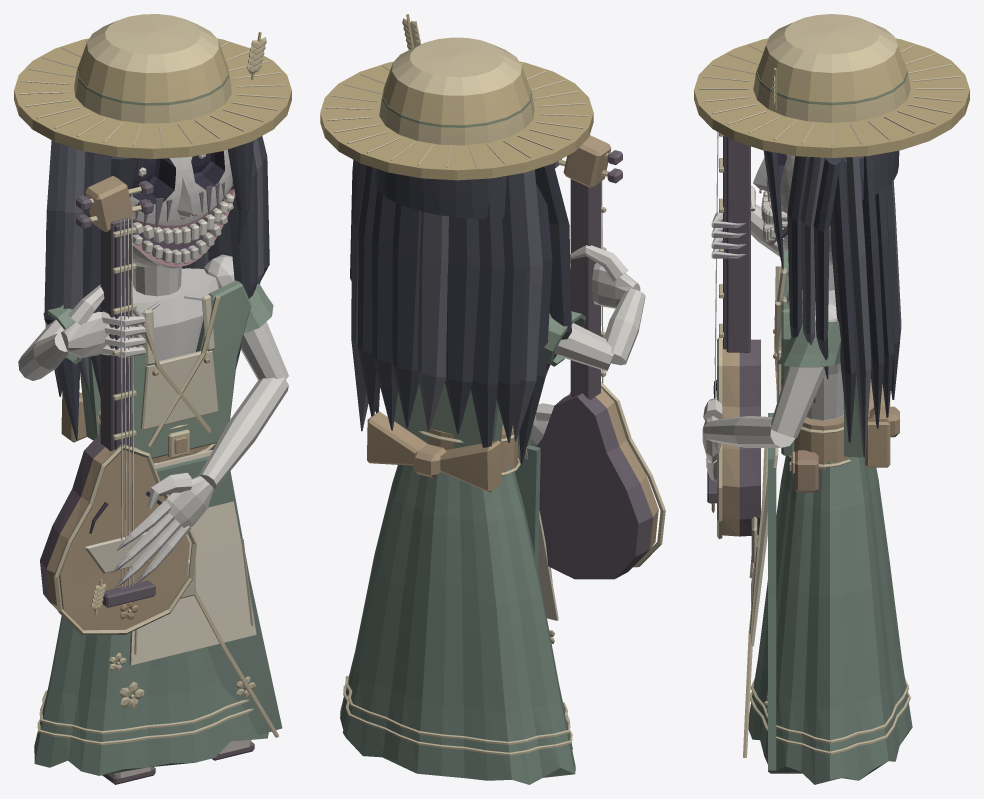
Rendered from MimicFarmer.glb.
3 renders of one model, left to right at view 1: azimuth 30°, elevation 25°; view 2: azimuth 150°, elevation 25°; view 3: azimuth 270°, elevation 25°, orthographic.
Visible parts, largest first — view 1: Body, Head, ArmL, ArmR, LegR; view 2: Body, Head, ArmR, ArmL; view 3: Body, Head, ArmL, ArmR.
Boxes of the visible parts, bbox=[...] form: Body: bbox=[34, 176, 282, 775]; Head: bbox=[14, 14, 291, 440]; ArmL: bbox=[110, 254, 288, 588]; ArmR: bbox=[18, 284, 145, 380]; LegR: bbox=[102, 767, 155, 784]; Body: bbox=[340, 135, 665, 784]; Head: bbox=[320, 14, 593, 464]; ArmR: bbox=[544, 245, 645, 371]; ArmL: bbox=[530, 403, 554, 446]; Body: bbox=[707, 132, 912, 784]; Head: bbox=[694, 14, 969, 457]; ArmL: bbox=[702, 300, 840, 482]; ArmR: bbox=[711, 186, 779, 258].
Size of the model in its own units: 3.12 by 7.73 by 2.72.
